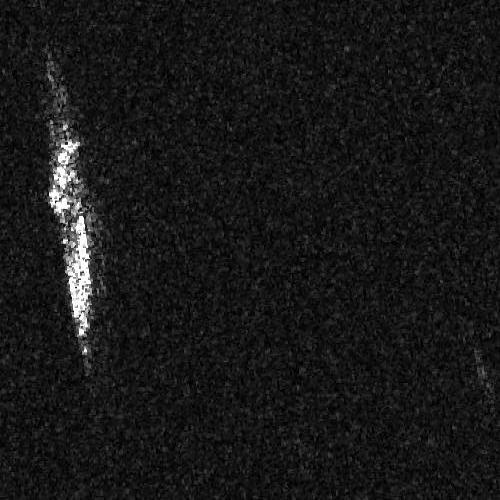ship: (43, 106, 95, 359)
